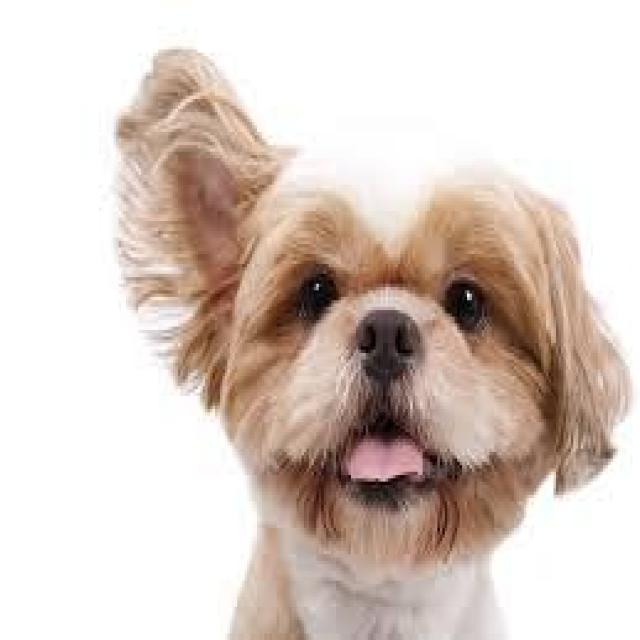Dog: (104, 22, 636, 597)
